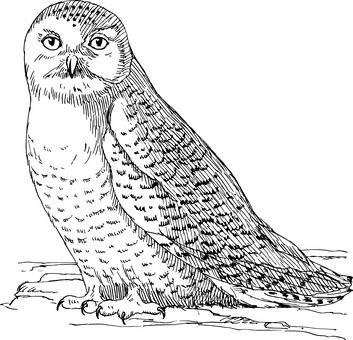bird: (19, 1, 353, 323)
